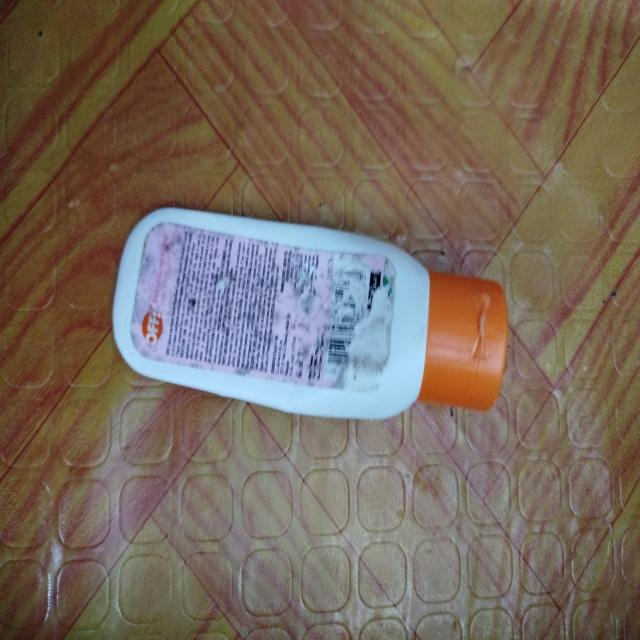plastic: (106, 195, 528, 462)
